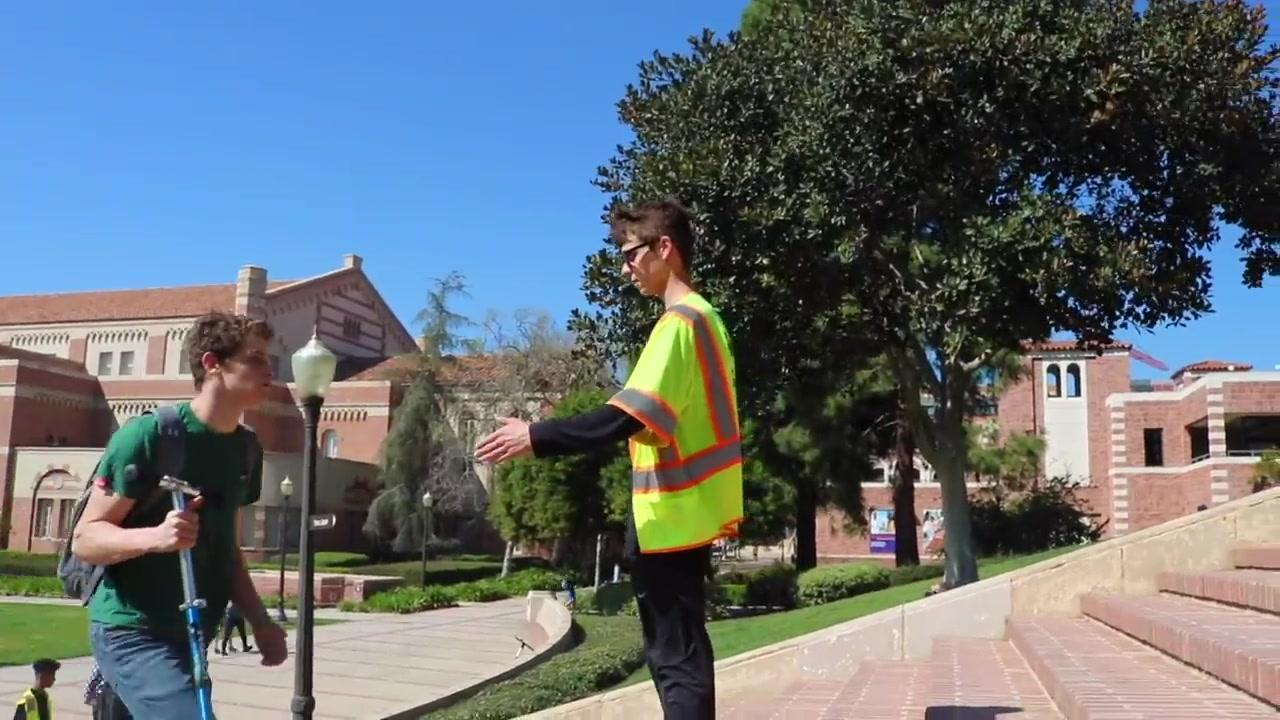Glass: (606, 305, 747, 558)
